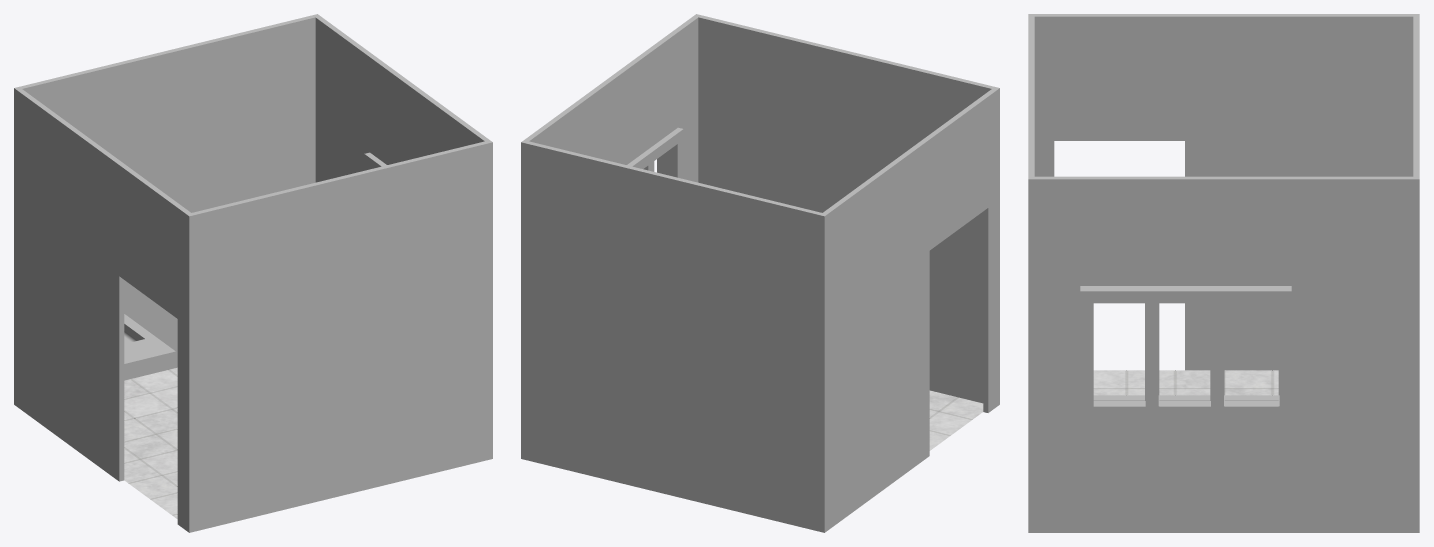
File: bathroom_config_1.dae
3 renders of one model, left to right at view 1: azimuth 30°, elevation 25°; view 2: azimuth 150°, elevation 25°; view 3: azimuth 270°, elevation 25°, orthographic. The views are drawn at different scales.
Visible parts, largest first — view 1: configuration_1; view 2: configuration_1; view 3: configuration_1.
Part boxes in pixels (<box>): configuration_1: <box>14,14,492,532</box>; configuration_1: <box>521,14,999,532</box>; configuration_1: <box>1028,14,1419,532</box>.
Size of the model in its own units: 3.1 by 3 by 2.99.
